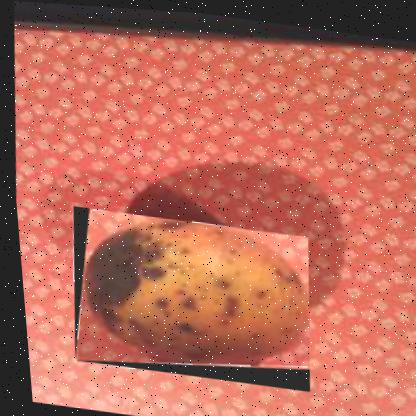mango_rotten: (59, 203, 315, 388)
